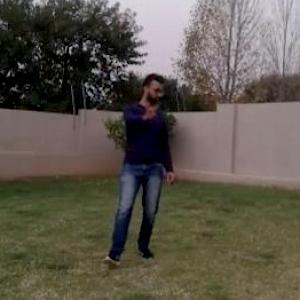takeoff-hand: (138, 97, 162, 124)
